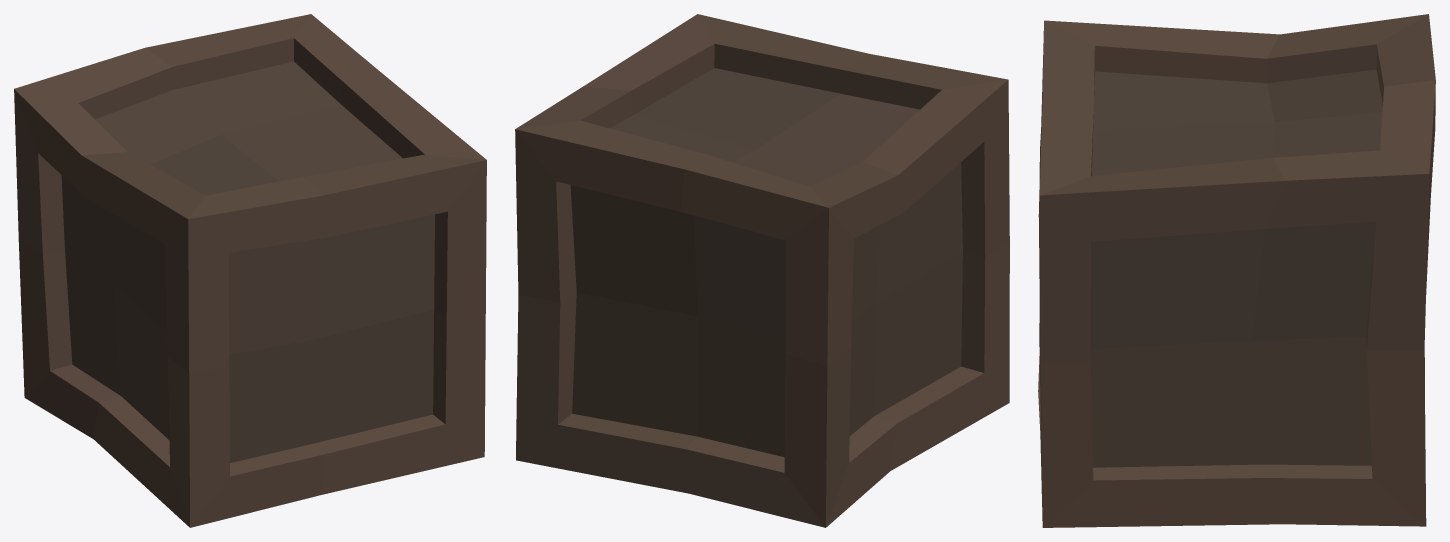
File: Package_01.glb
3 renders of one model, left to right at view 1: azimuth 30°, elevation 25°; view 2: azimuth 150°, elevation 25°; view 3: azimuth 270°, elevation 25°, orthographic. The views are drawn at different scales.
Parts seen in each view (by area): view 1: Cube.001; view 2: Cube.001; view 3: Cube.001.
Boxes of the visible parts, x1,y1,x2,y2 form: Cube.001: [14, 14, 486, 527]; Cube.001: [515, 14, 1009, 527]; Cube.001: [1038, 14, 1435, 527].
Bounding box in the file's own units: 1 × 1.03 × 1.04.
